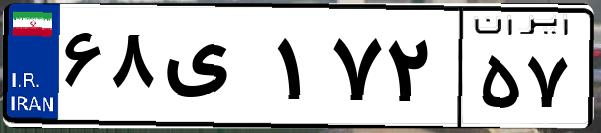1: (270, 28, 330, 110)
2: (385, 28, 445, 110)
5: (475, 38, 525, 113)
6: (57, 26, 110, 100)
7: (330, 28, 385, 110), (525, 38, 570, 115)
8: (110, 28, 158, 98)
ی: (158, 20, 270, 120)
